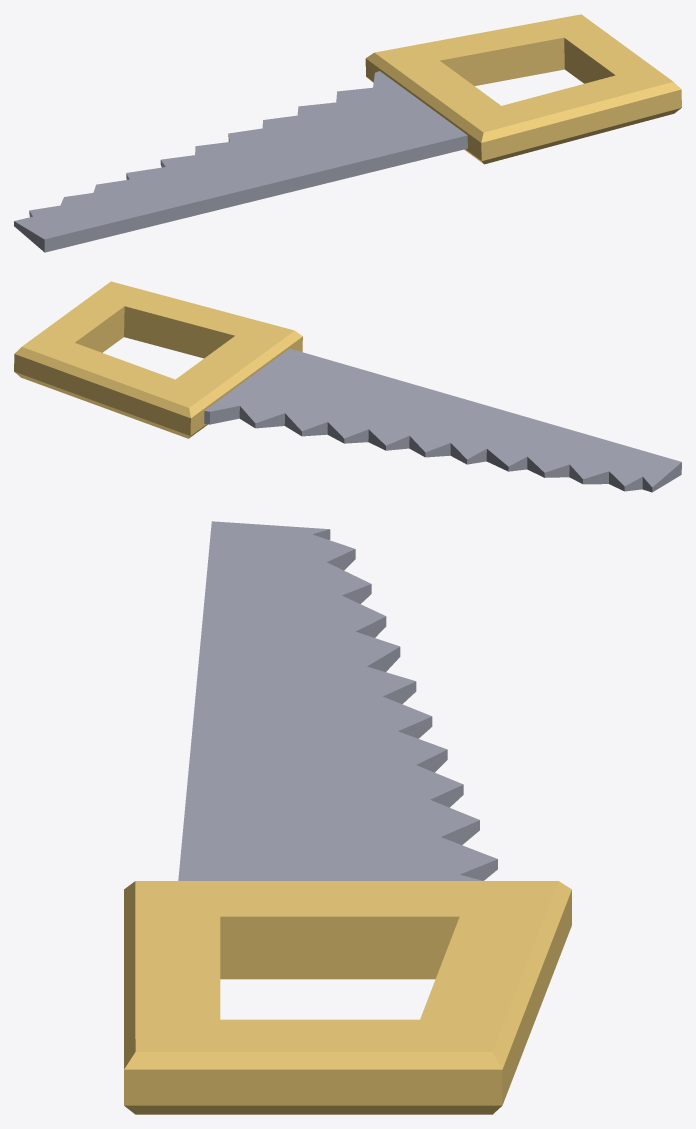
The model's file is chainsaw.fbx.
The picture shows the model from 3 angles, top to bottom: view 1: azimuth 30°, elevation 25°; view 2: azimuth 150°, elevation 25°; view 3: azimuth 270°, elevation 25°; orthographic projection. The views are drawn at different scales.
Visible parts, largest first — view 1: chainsaw; view 2: chainsaw; view 3: chainsaw.
Boxes of the visible parts, left/top/right/bottom form: chainsaw: left=14, top=14, right=681, bottom=252; chainsaw: left=14, top=281, right=681, bottom=492; chainsaw: left=124, top=521, right=571, bottom=1114.
Size of the model in its own units: 248 by 14.15 by 80.84.
